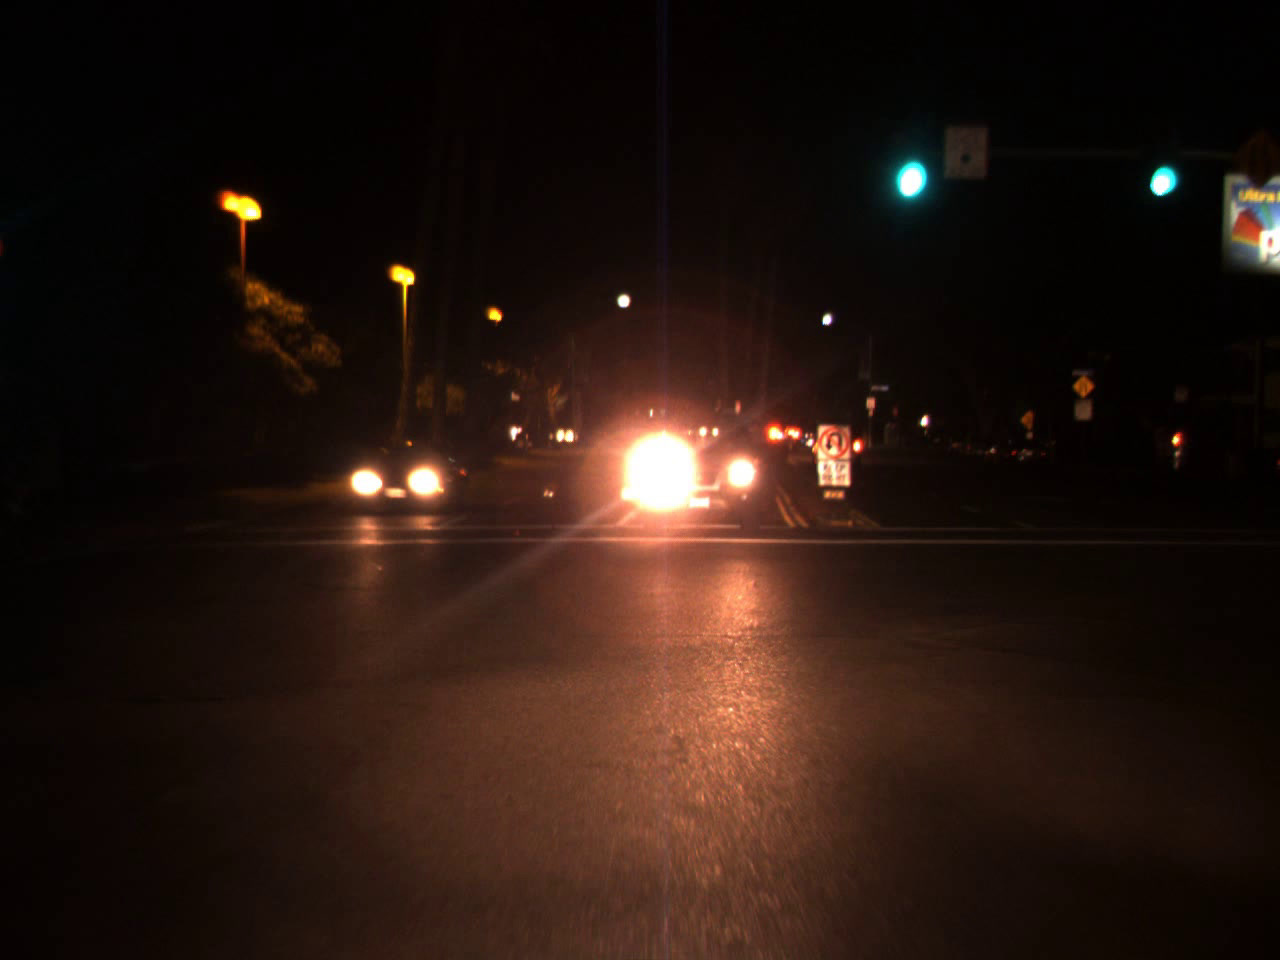go: (886, 123, 927, 210), (1140, 129, 1181, 207)
